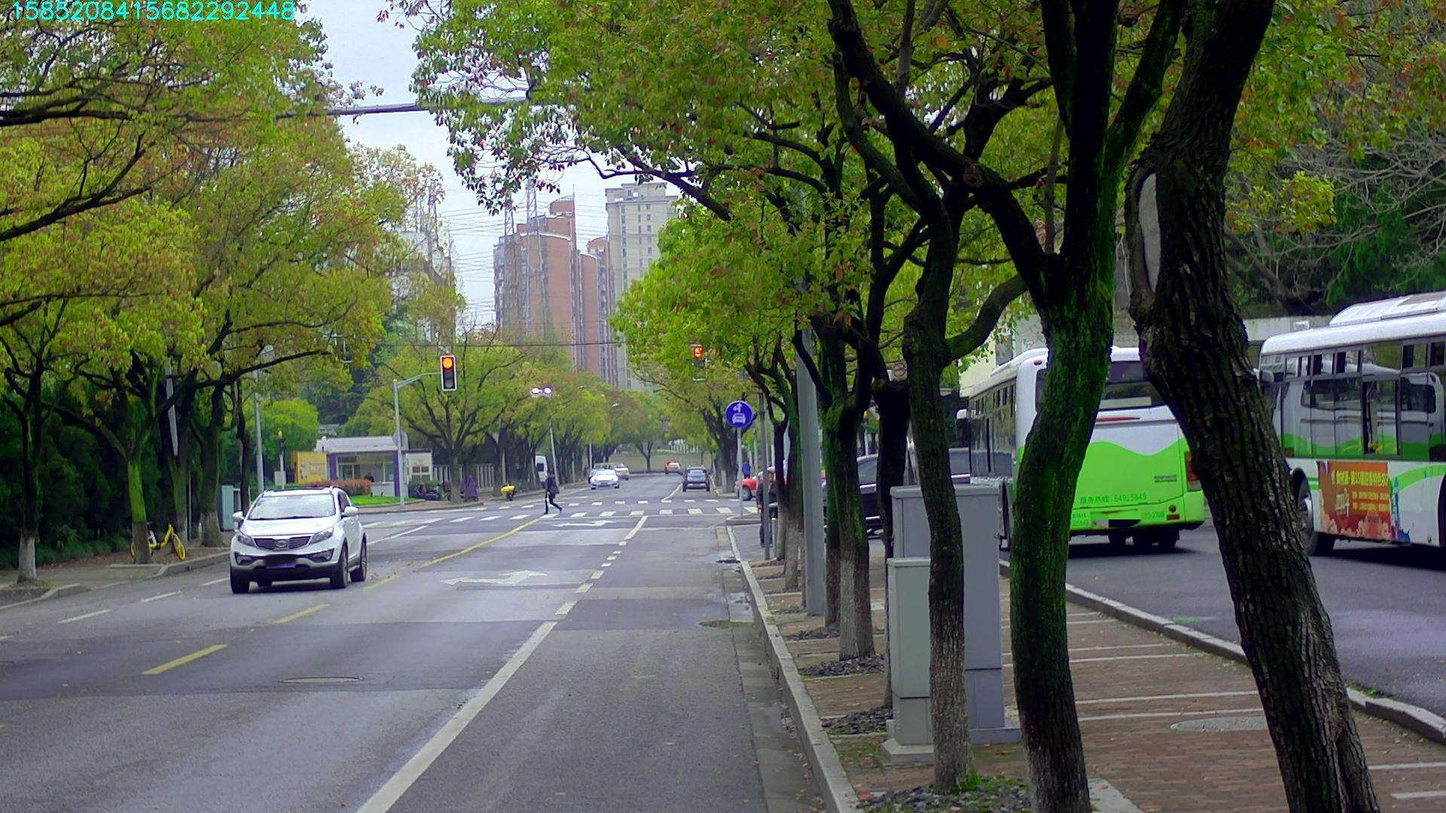red: (691, 346, 706, 379), (441, 357, 456, 388)
